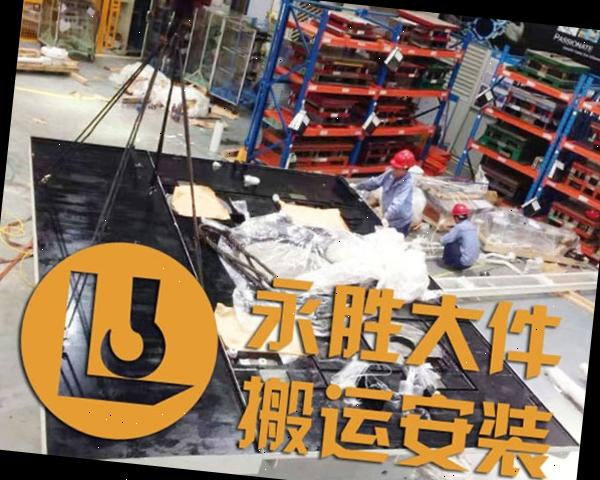helmet: (389, 147, 418, 172), (451, 202, 471, 216)
wear: (378, 173, 415, 225), (451, 222, 484, 266)
